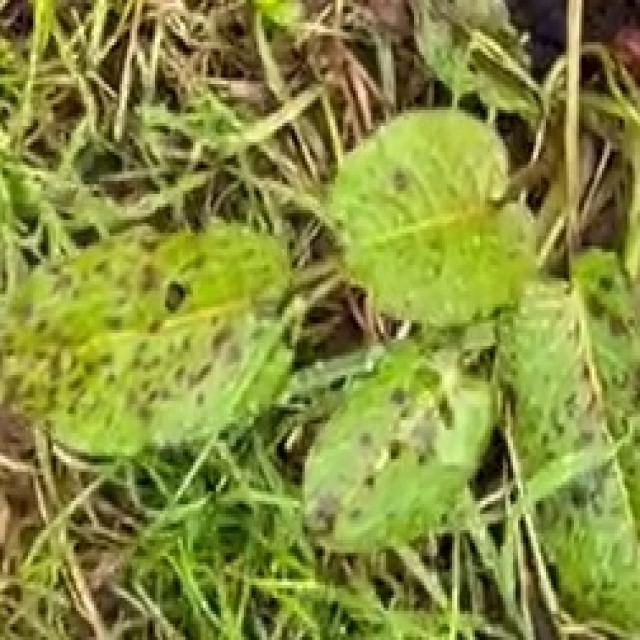organic waste: (16, 80, 640, 614)
